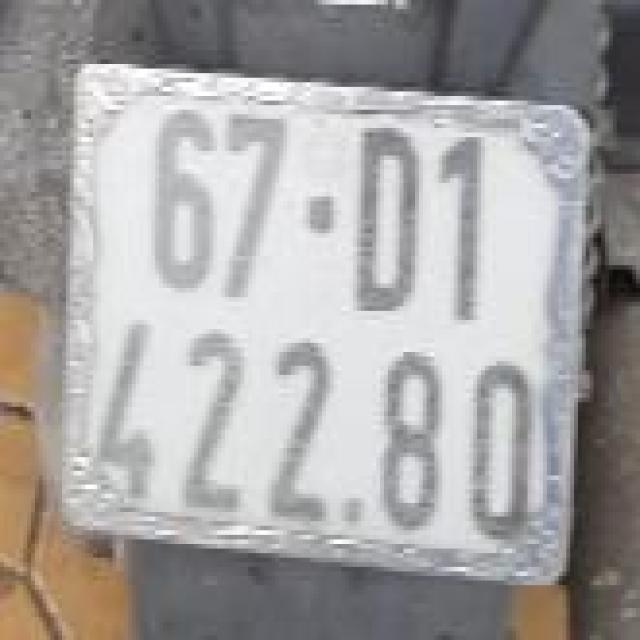0: (460, 347, 545, 544)
1: (432, 128, 494, 306)
2: (262, 315, 339, 535), (180, 304, 250, 523)
4: (87, 311, 161, 516)
6: (151, 94, 217, 290)
7: (217, 103, 295, 313)
8: (372, 333, 450, 558)
D: (341, 117, 419, 313)
